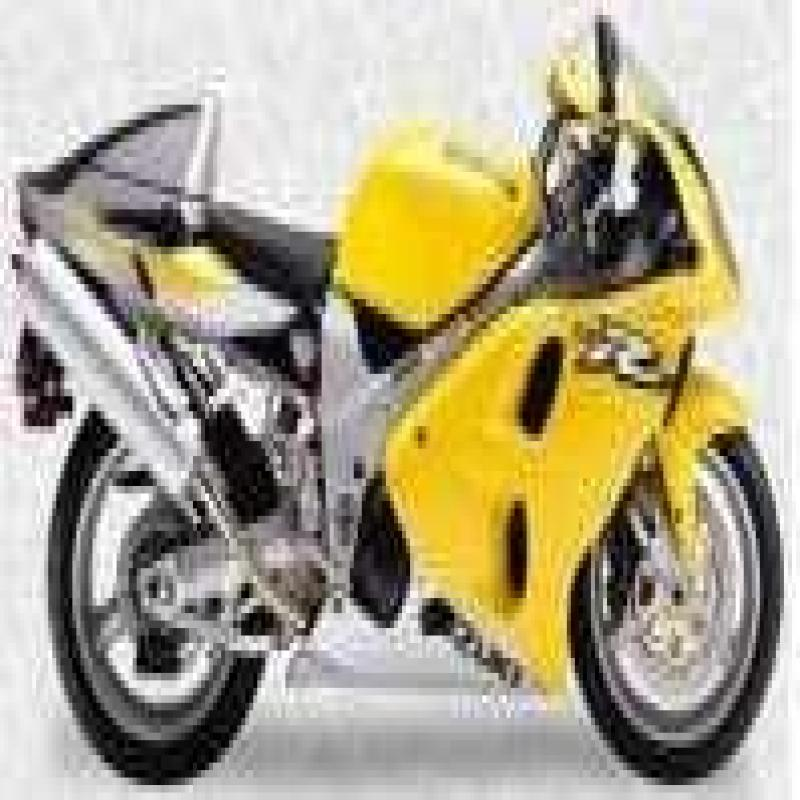bike: (21, 31, 792, 796)
